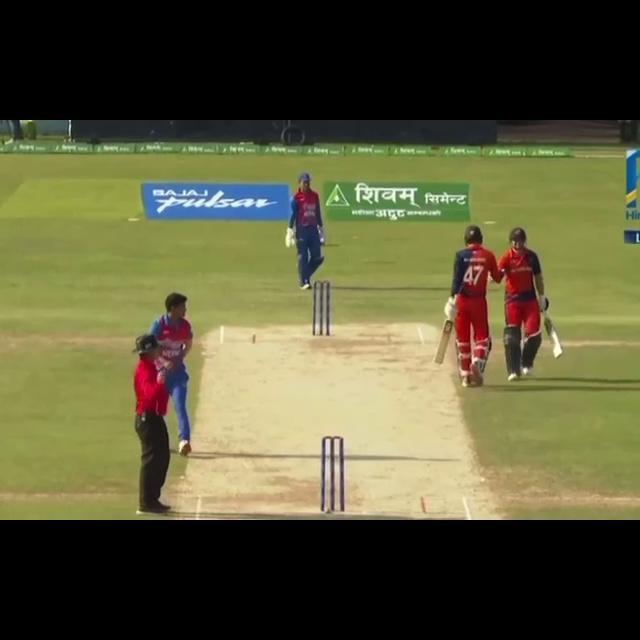umpire: (119, 334, 189, 520)
